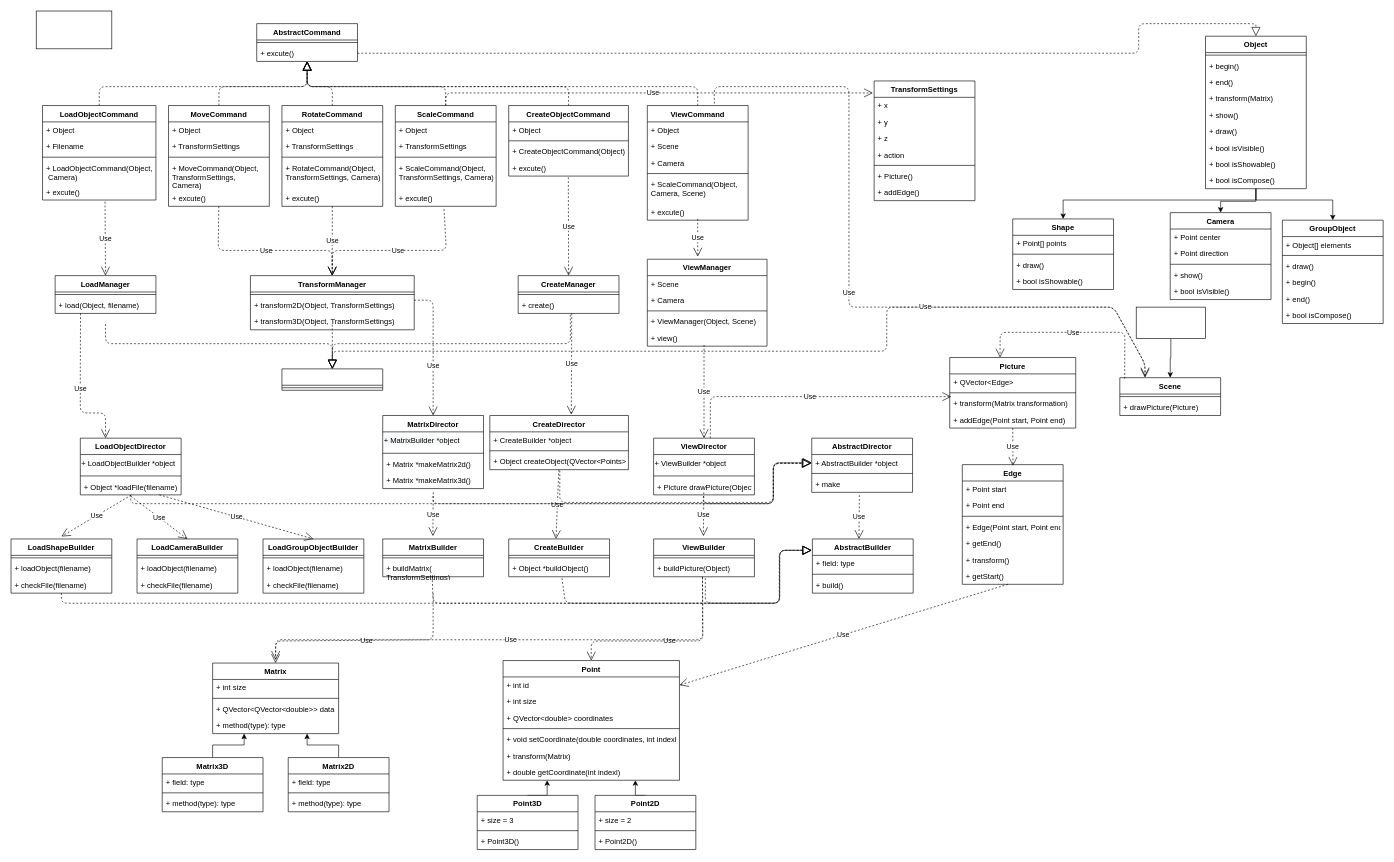
Image size: 1394x862. Some labels were removed from this diagram. The centre of each missing label's shape, as x and y in pixels:
"AbstractManager" belongs at point (332, 379).
"Commands" belongs at point (74, 29).
"QGraphicsScene" belongs at point (1171, 322).
